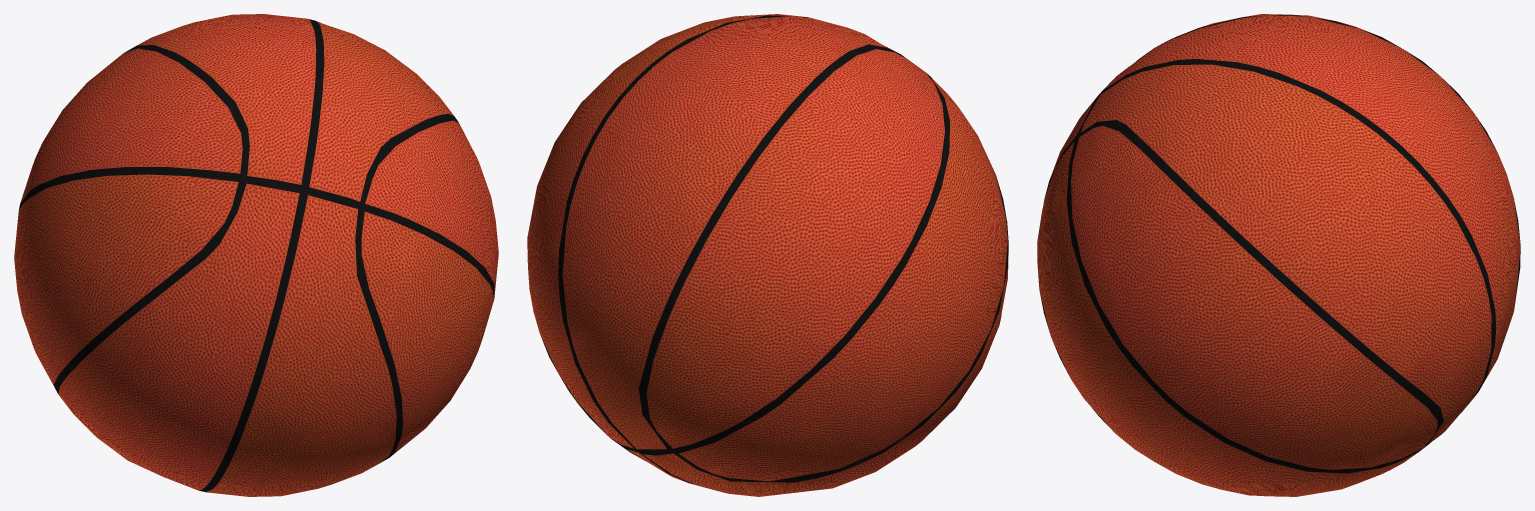
The model's file is Ball.FBX.
The picture shows the model from 3 angles, left to right: view 1: azimuth 30°, elevation 25°; view 2: azimuth 150°, elevation 25°; view 3: azimuth 270°, elevation 25°; orthographic projection.
Parts seen in each view (by area): view 1: ball; view 2: ball; view 3: ball.
Boxes of the visible parts, <box> form: ball: <box>14,14,498,496</box>; ball: <box>527,14,1008,496</box>; ball: <box>1037,14,1520,496</box>.
Size of the model in its own units: 245 by 245 by 245.
1 material, 1 textured.
